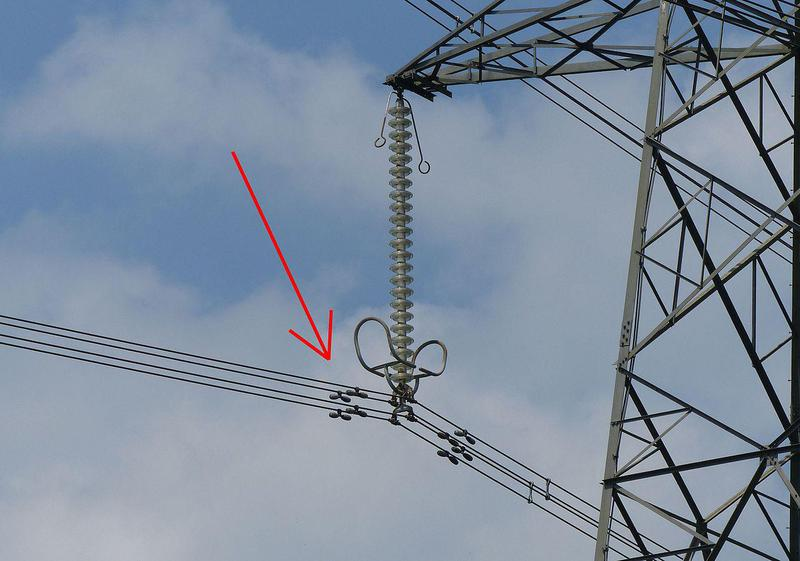isolator: (386, 104, 415, 384)
